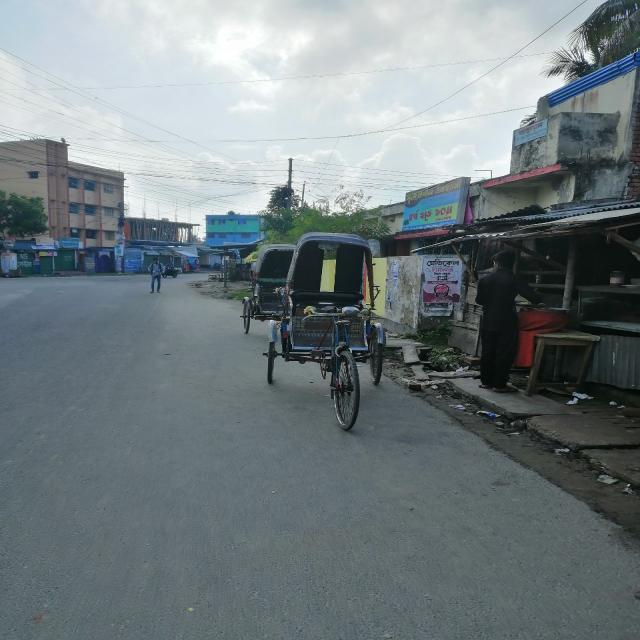Auto-Rickshaw: (261, 223, 425, 472)
